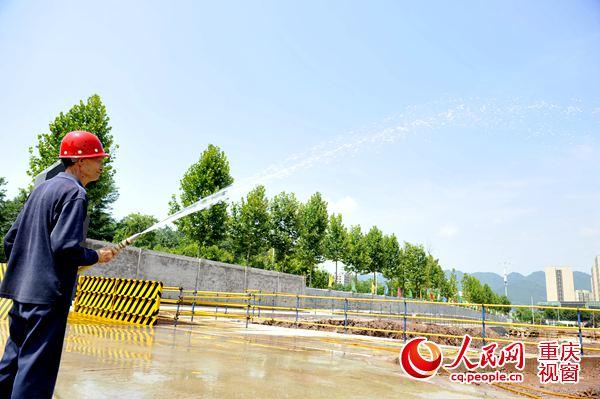helmet: (59, 130, 111, 161)
